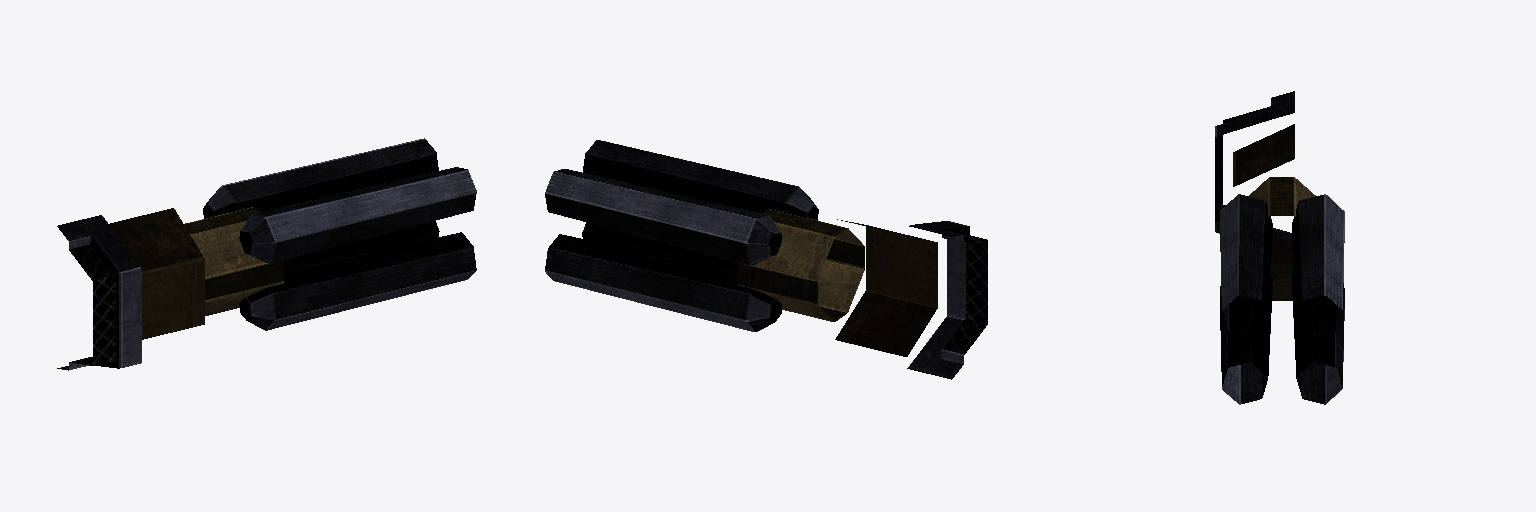
3 views of the same model, side by side, from view 1: azimuth 30°, elevation 25°; view 2: azimuth 150°, elevation 25°; view 3: azimuth 270°, elevation 25° (orthographic).
Bounding box in the file's own units: 30.2 × 10.75 × 8.9.
Materials: 1 (1 with a texture image).